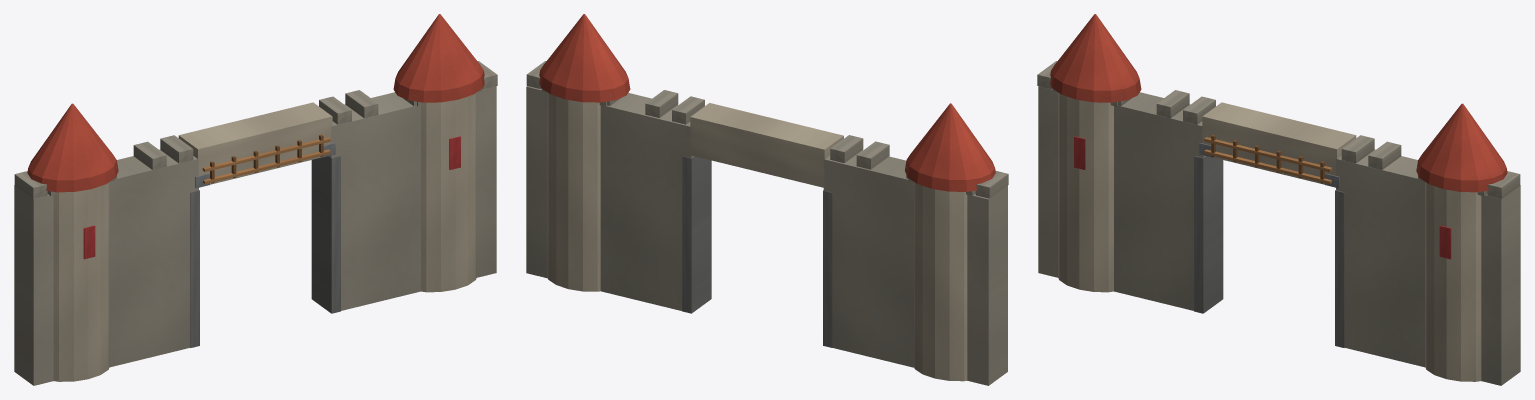
File: poort_torens.glb
3 renders of one model, left to right at view 1: azimuth 30°, elevation 25°; view 2: azimuth 150°, elevation 25°; view 3: azimuth 330°, elevation 25°, orthographic.
Visible parts, largest first — view 1: world; view 2: world; view 3: world.
Part boxes in pixels (box(x1,y1,x2,y2)): world: box(14, 14, 497, 385); world: box(526, 14, 1008, 385); world: box(1037, 14, 1520, 385).
Size of the model in its own units: 14 by 7.6 by 2.
1 material, 1 textured.
